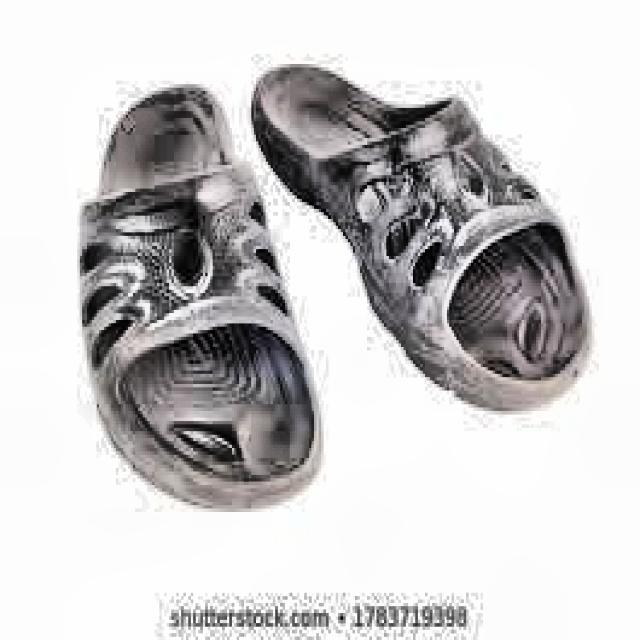shoes: (70, 57, 599, 511)
